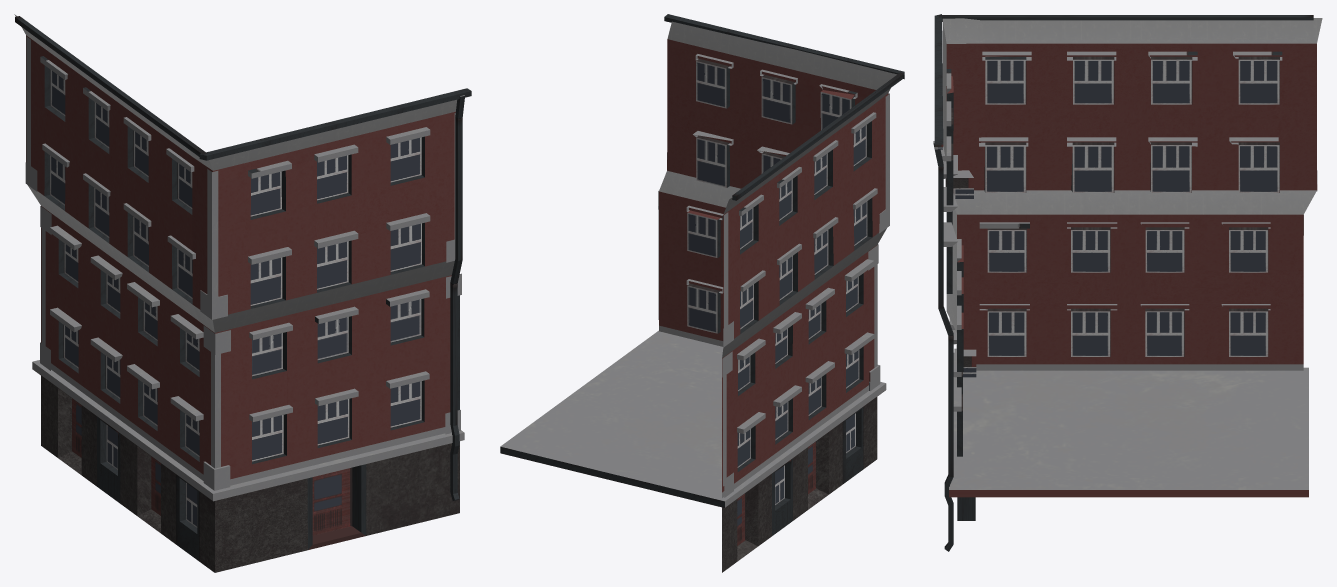
File: basic apartment complex.fbx
The picture shows the model from 3 angles, left to right: view 1: azimuth 30°, elevation 25°; view 2: azimuth 150°, elevation 25°; view 3: azimuth 270°, elevation 25°; orthographic projection. The views are drawn at different scales.
Visible parts, largest first — view 1: Cube.002; view 2: Cube.002; view 3: Cube.002.
Boxes of the visible parts, x1=… form: Cube.002: x1=14, y1=14, x2=471, y2=572; Cube.002: x1=500, y1=14, x2=904, y2=572; Cube.002: x1=933, y1=14, x2=1322, y2=551.
Size of the model in its own units: 7584 by 11584 by 9532.
